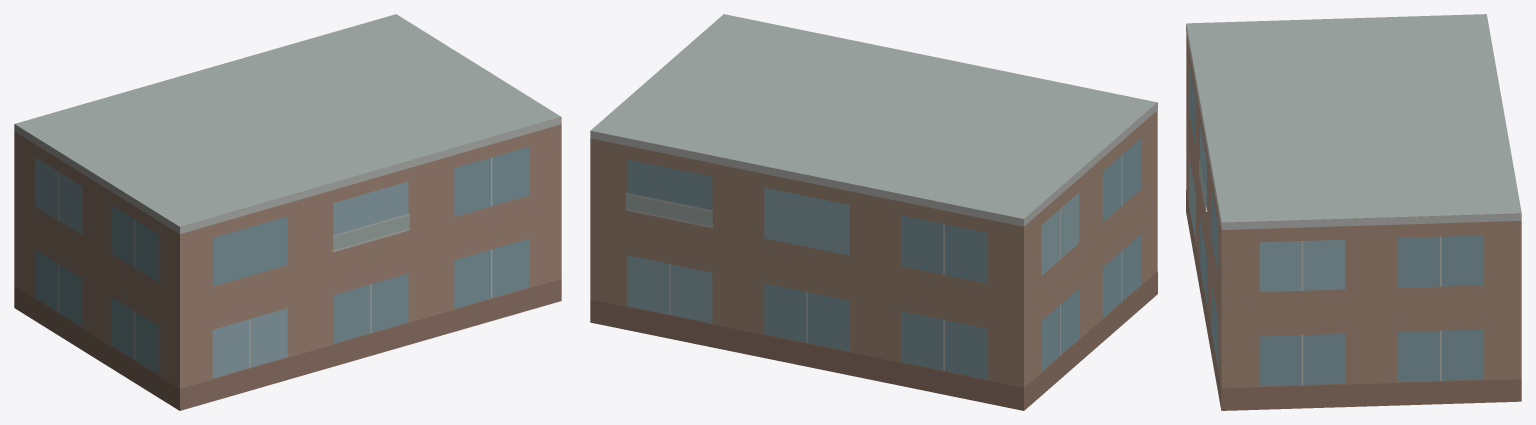
The model's file is survey-upis-32701308.glb.
The picture shows the model from 3 angles, left to right: view 1: azimuth 30°, elevation 25°; view 2: azimuth 150°, elevation 25°; view 3: azimuth 270°, elevation 25°; orthographic projection. The views are drawn at different scales.
Parts seen in each view (by area): view 1: survey-upis-32701308.tmp; view 2: survey-upis-32701308.tmp; view 3: survey-upis-32701308.tmp.
Boxes of the visible parts, bbox=[...] form: survey-upis-32701308.tmp: bbox=[14, 14, 561, 410]; survey-upis-32701308.tmp: bbox=[590, 14, 1157, 410]; survey-upis-32701308.tmp: bbox=[1186, 14, 1521, 410].
Size of the model in its own units: 14.5 by 6.1 by 9.86.
